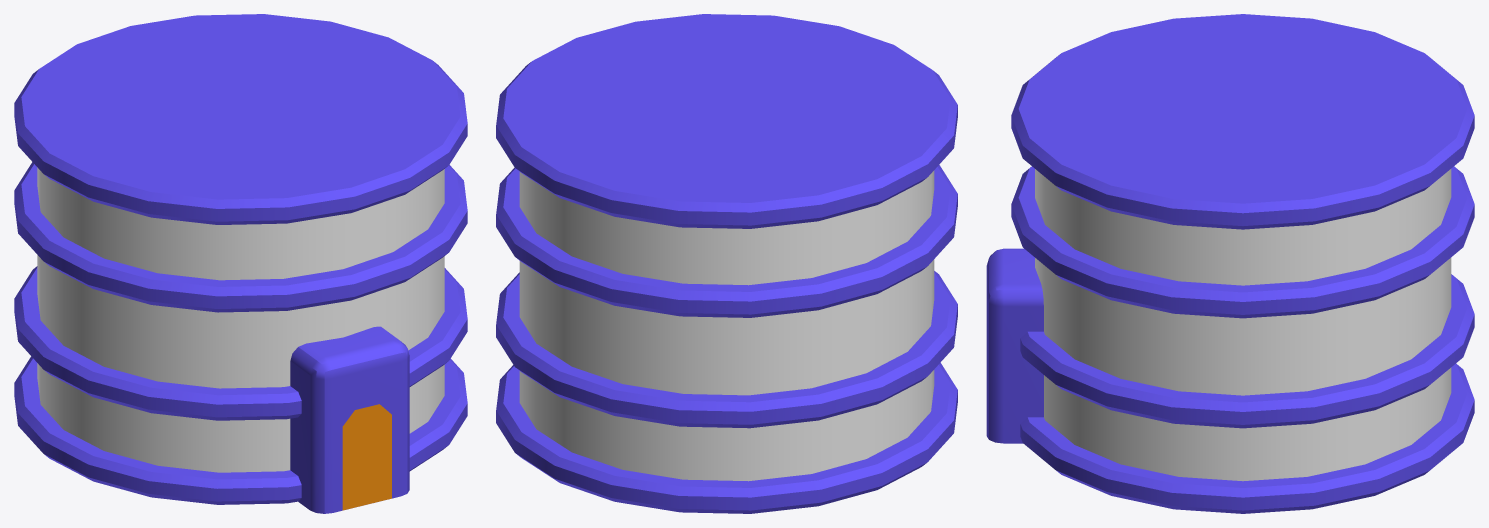
The model's file is Building_026_a.fbx.
The picture shows the model from 3 angles, left to right: view 1: azimuth 30°, elevation 25°; view 2: azimuth 150°, elevation 25°; view 3: azimuth 270°, elevation 25°; orthographic projection.
Parts seen in each view (by area): view 1: Building_026_a; view 2: Building_026_a; view 3: Building_026_a.
Part boxes in pixels (x1,y1,x2,y2): Building_026_a: (14, 14, 467, 513); Building_026_a: (496, 14, 957, 513); Building_026_a: (986, 14, 1474, 513).
Bounding box in the file's own units: 6.75 × 4.99 × 7.12.
